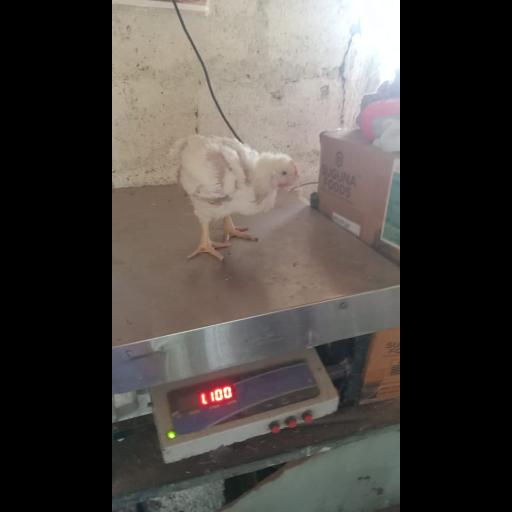chick: (171, 135, 301, 261)
